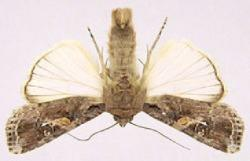army worm adult: (6, 6, 247, 160)
